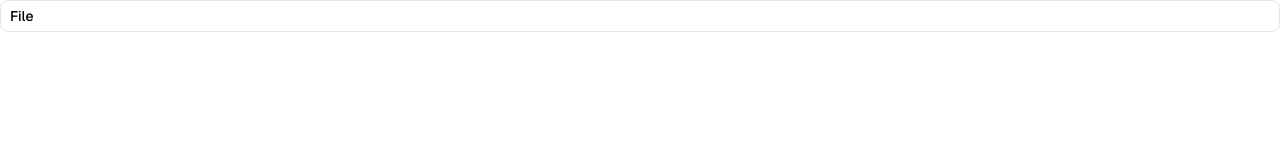
Test: Menubar › opens a menu and shows an item
Click the menu item "File" at (22, 16), box [4,4,40,28]
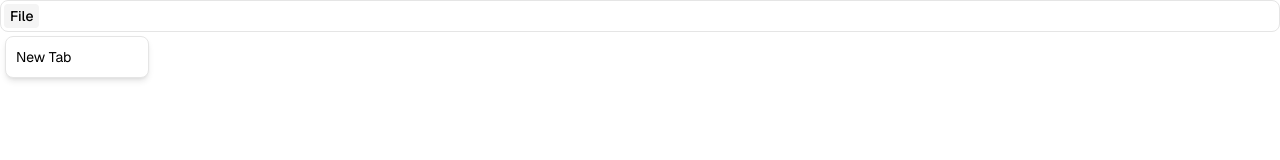
expect the menu item "New Tab" is shown: met, box [16,48,71,66]
